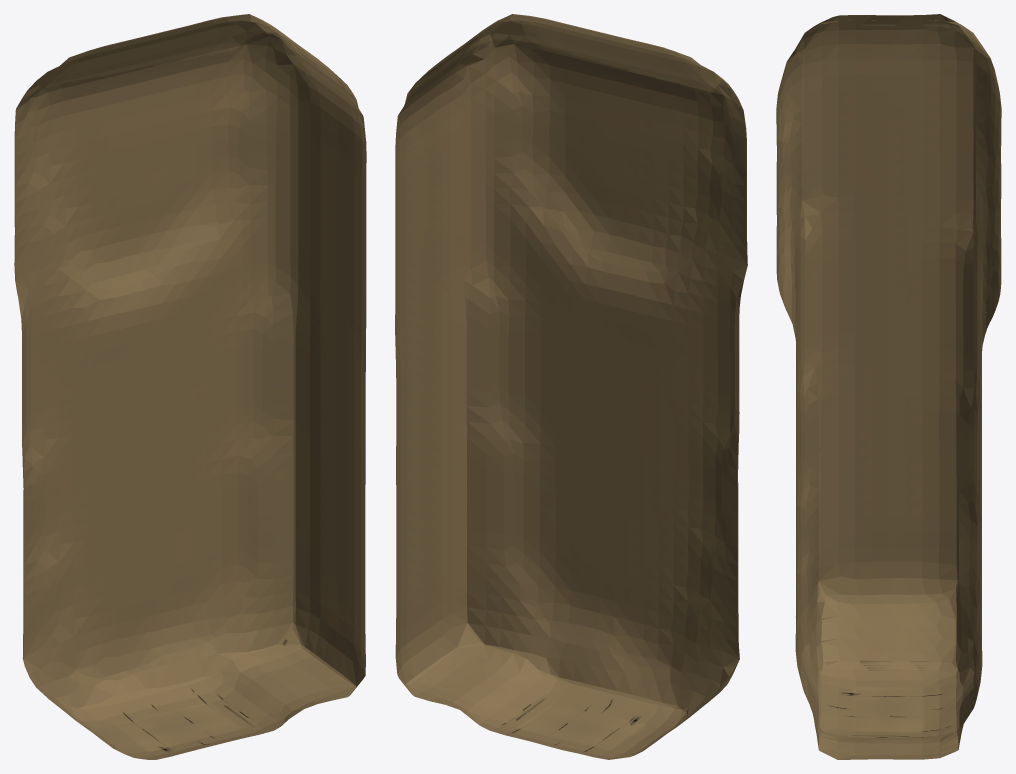
The picture shows the model from 3 angles, left to right: view 1: azimuth 30°, elevation 25°; view 2: azimuth 150°, elevation 25°; view 3: azimuth 270°, elevation 25°; orthographic projection.
Visible parts, largest first — view 1: model; view 2: model; view 3: model.
Boxes of the visible parts, x1=… form: model: x1=14, y1=14, x2=366, y2=759; model: x1=395, y1=14, x2=747, y2=759; model: x1=776, y1=14, x2=1001, y2=759.
Size of the model in its own units: 0.447 by 1 by 0.3087.
Materials: 1 (1 with a texture image).
